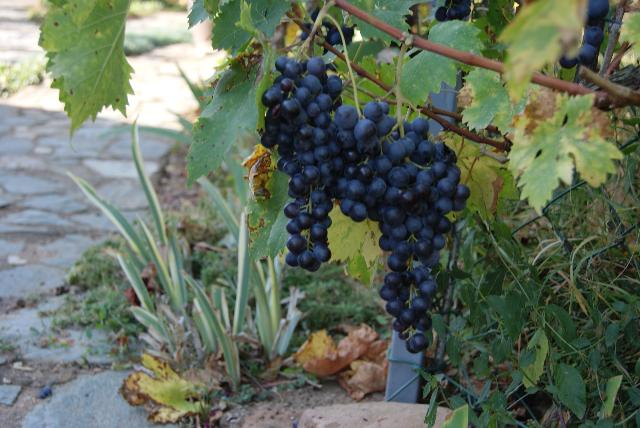grapes: (380, 118, 469, 354), (261, 56, 341, 271), (332, 102, 386, 221)
